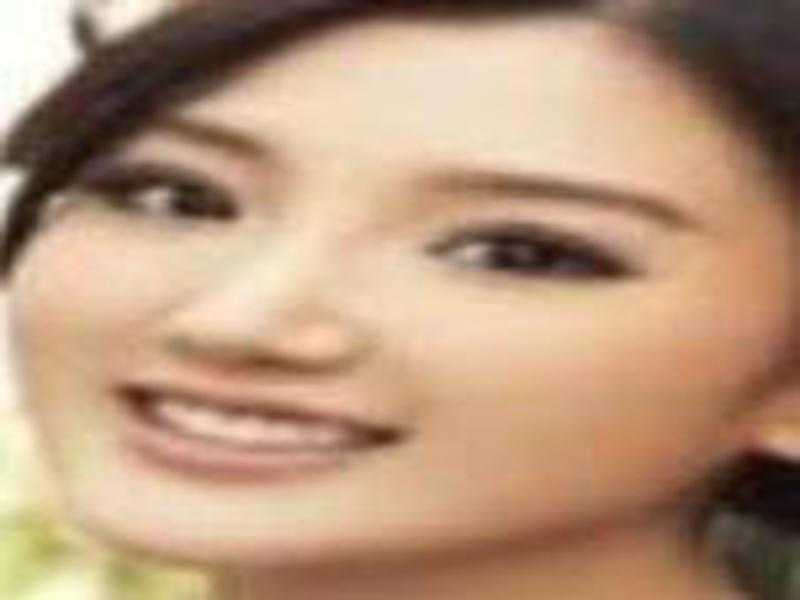without_mask: (11, 67, 749, 567)
